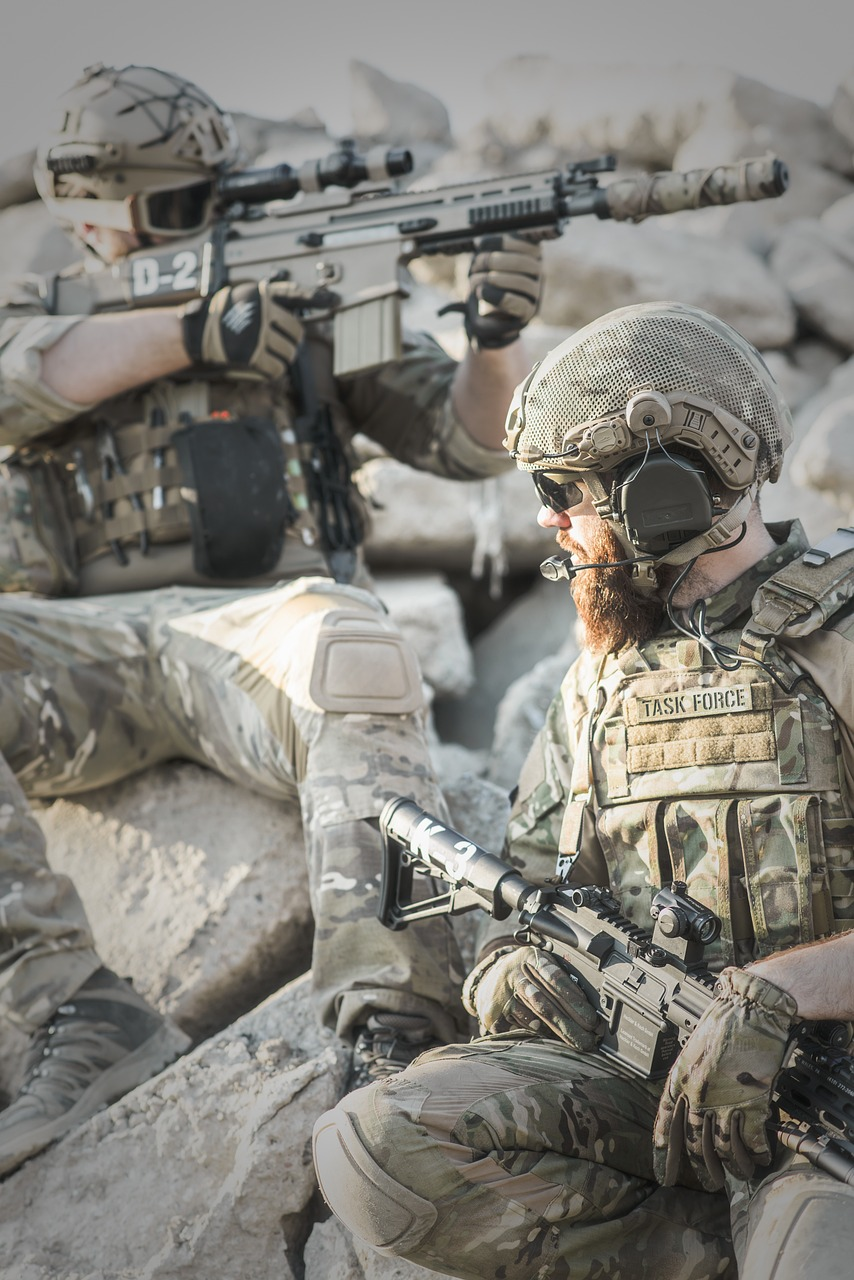gun: (39, 128, 795, 388), (368, 786, 854, 1190)
